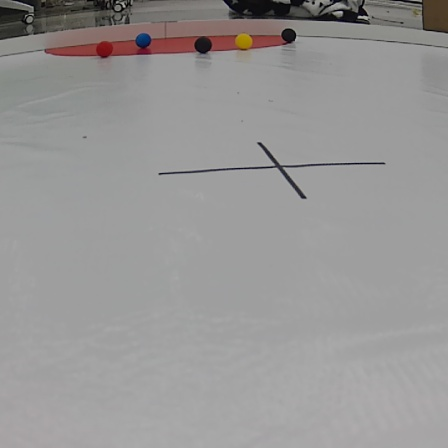black: (195, 36, 212, 54), (282, 28, 298, 43)
blue: (135, 32, 150, 48)
red: (95, 40, 113, 58)
red_base: (47, 34, 305, 58)
yellow: (232, 35, 257, 51)
